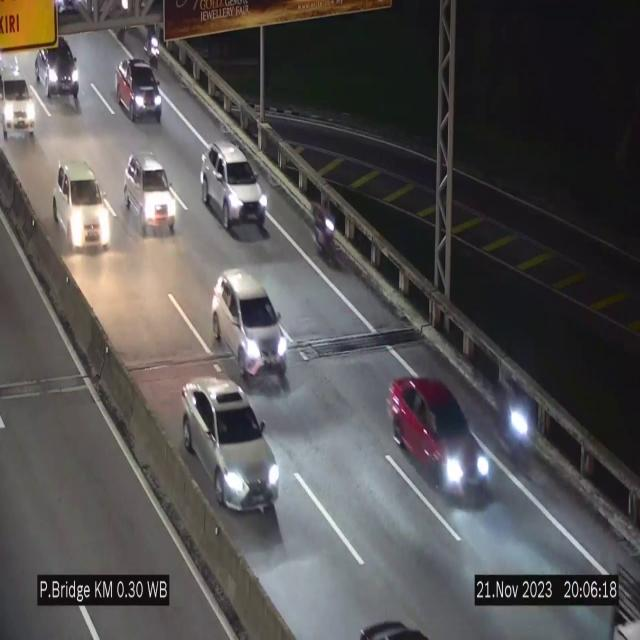Car: (389, 375, 488, 508), (182, 377, 279, 511), (211, 270, 288, 382), (200, 143, 267, 235), (56, 164, 112, 254), (124, 150, 177, 242), (35, 42, 85, 106), (116, 56, 162, 122), (0, 66, 40, 140)
Motorcycle: (499, 372, 533, 476), (315, 193, 335, 270), (140, 19, 160, 72)
